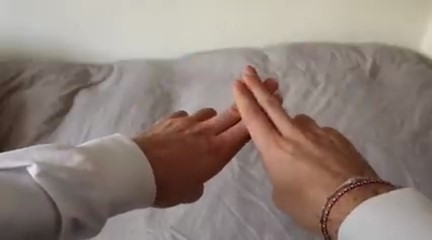F: (126, 52, 377, 228)
